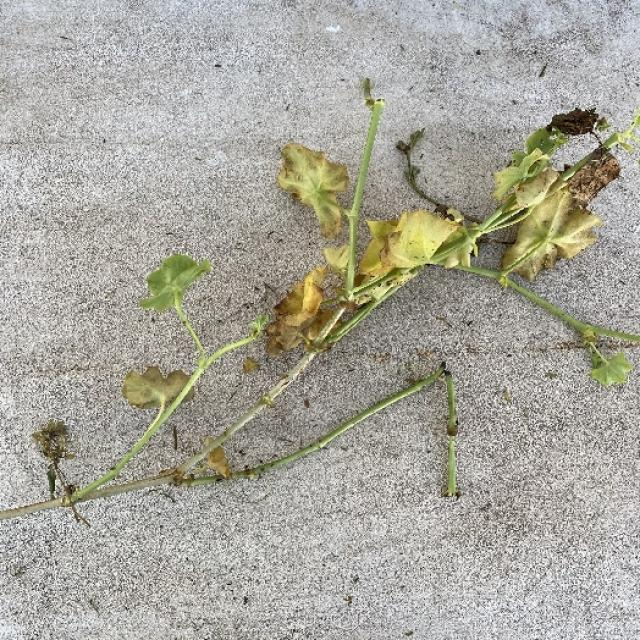organik: (42, 108, 620, 502)
